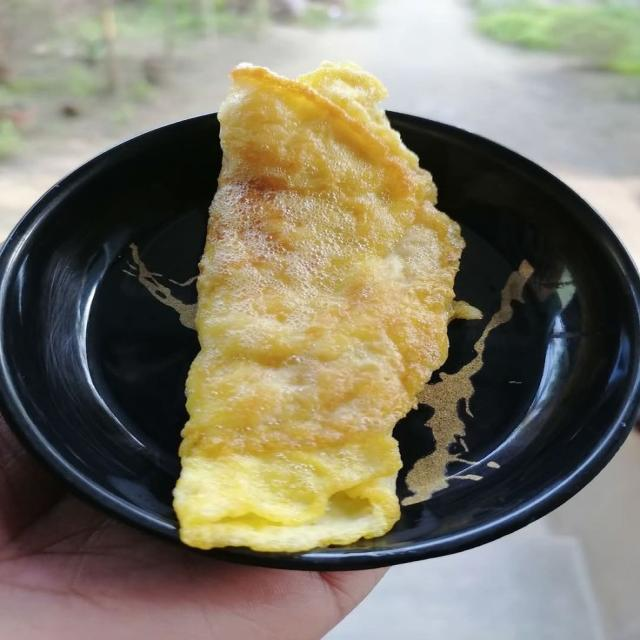omelette: (174, 64, 463, 551)
